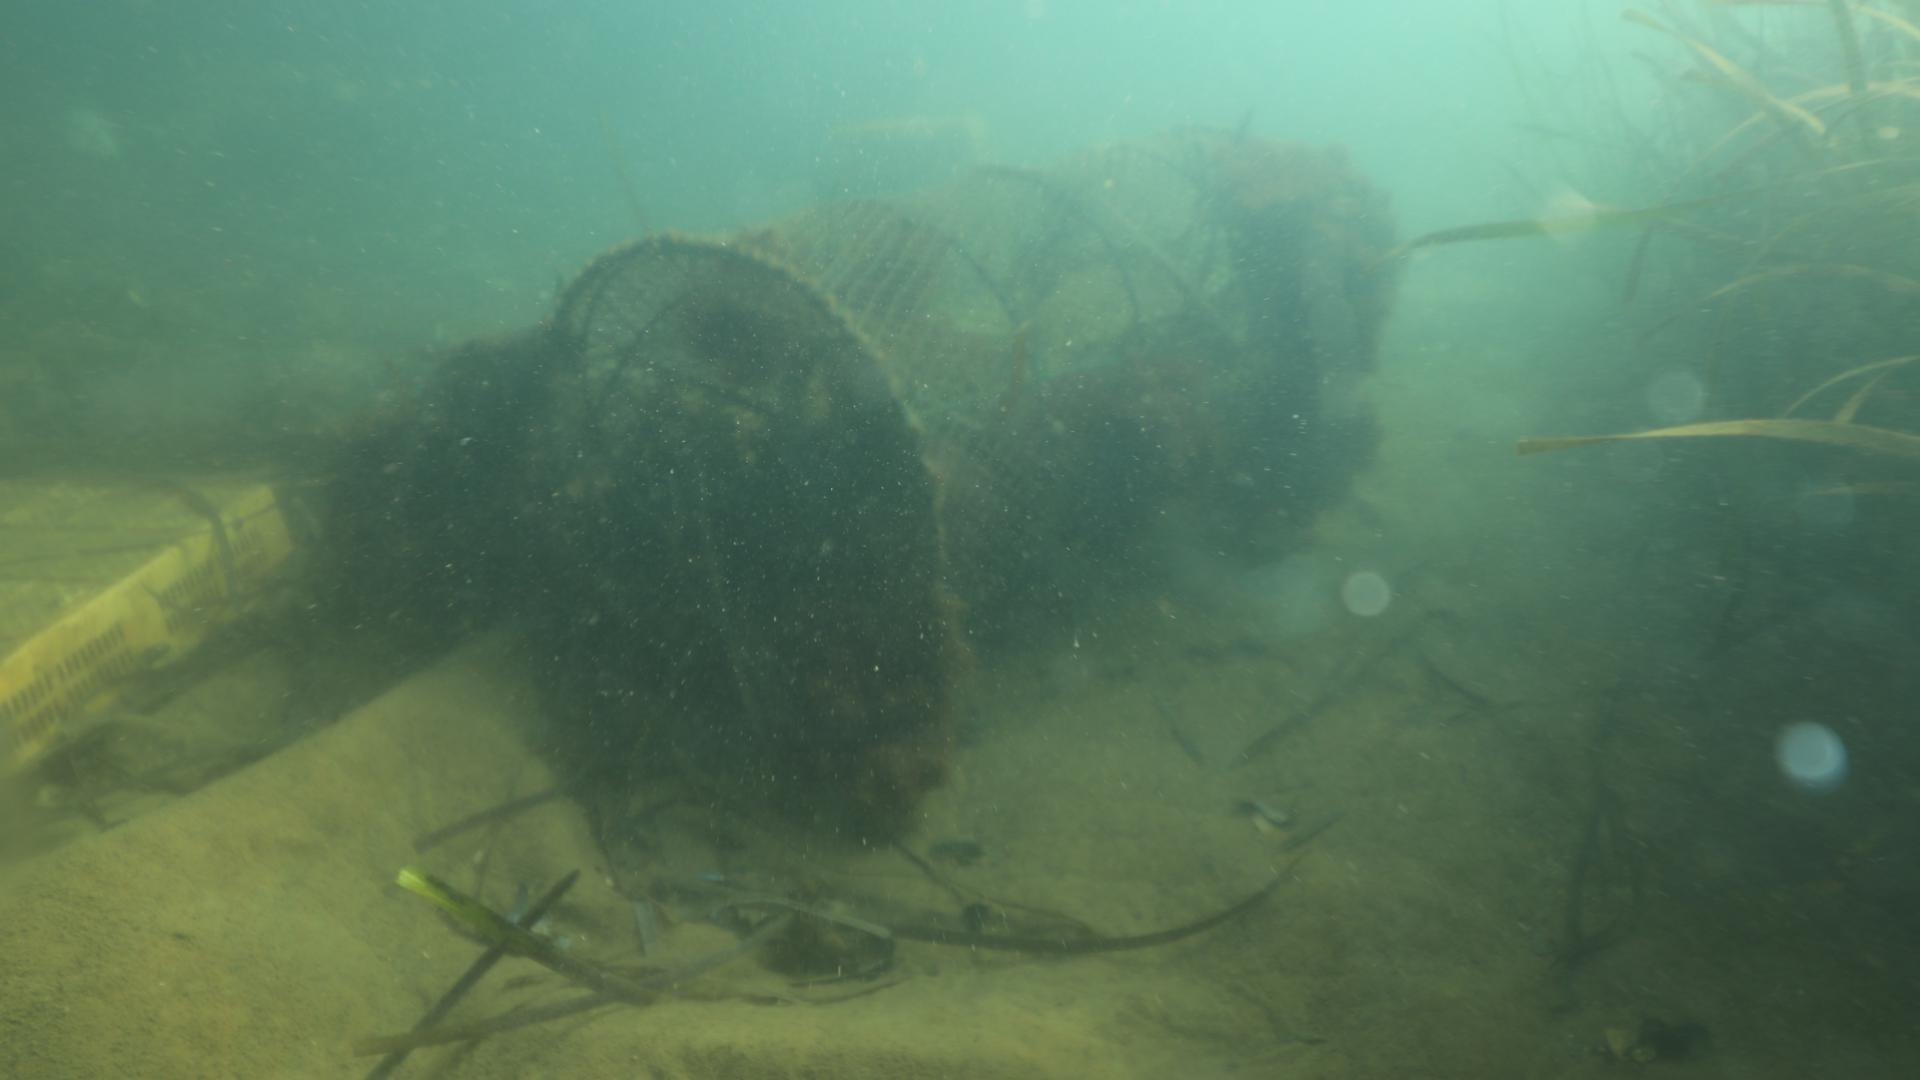spring fish trap: (524, 125, 1354, 819)
